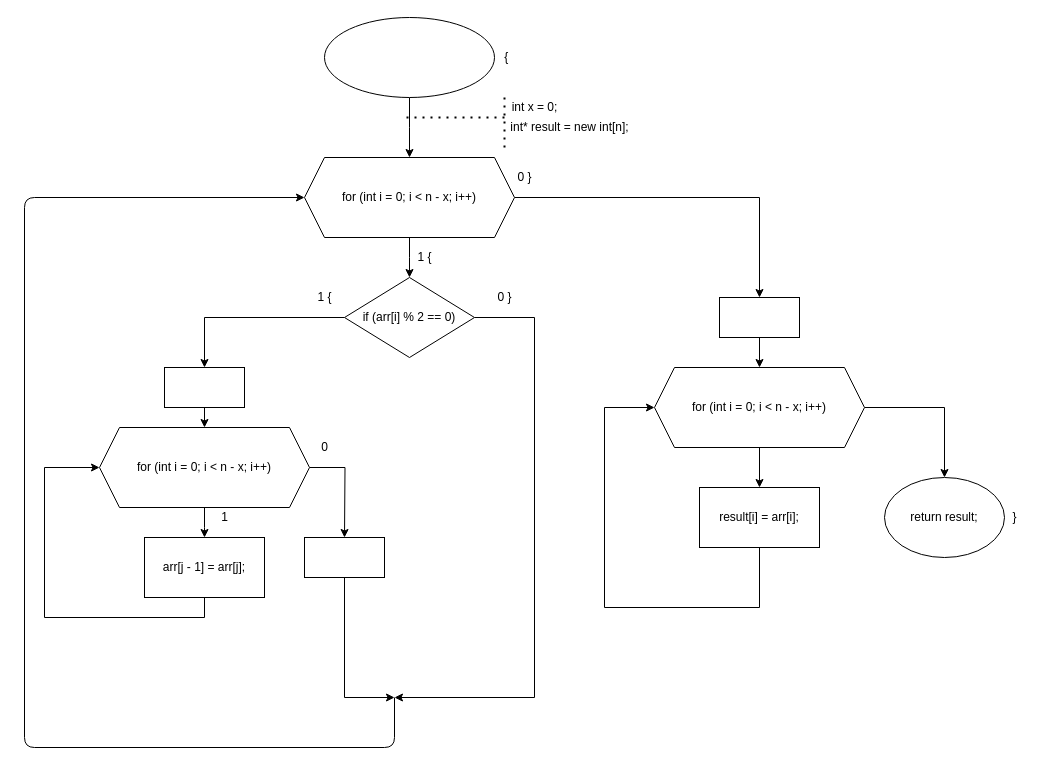
The diagram is 1042 pixels wide and 773 high, and some of its shapes have lost their labels. Each missing label, with the centre of its shape:
"++x;" belongs at point 204,387.
"--i;" belongs at point 344,557.
"int* toNewArrive(int &n, int* arr)" belongs at point 409,57.
"n-=x;" belongs at point 759,317.
